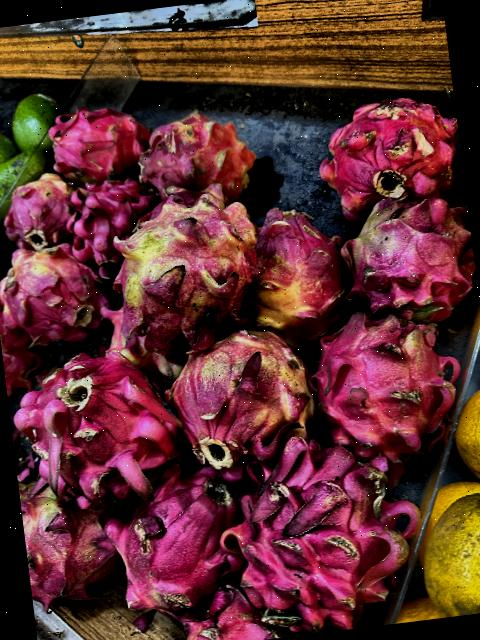buah-naga-belum-matang: (96, 188, 270, 359), (159, 318, 325, 488), (238, 196, 352, 342), (19, 474, 124, 606), (0, 246, 112, 345), (0, 172, 72, 246)
buah-naga-matang: (226, 422, 428, 632), (312, 298, 480, 478), (14, 348, 182, 500), (332, 186, 480, 323), (311, 83, 462, 211), (104, 472, 241, 612), (136, 106, 268, 205), (59, 172, 160, 274), (38, 104, 148, 180), (177, 581, 291, 640)
